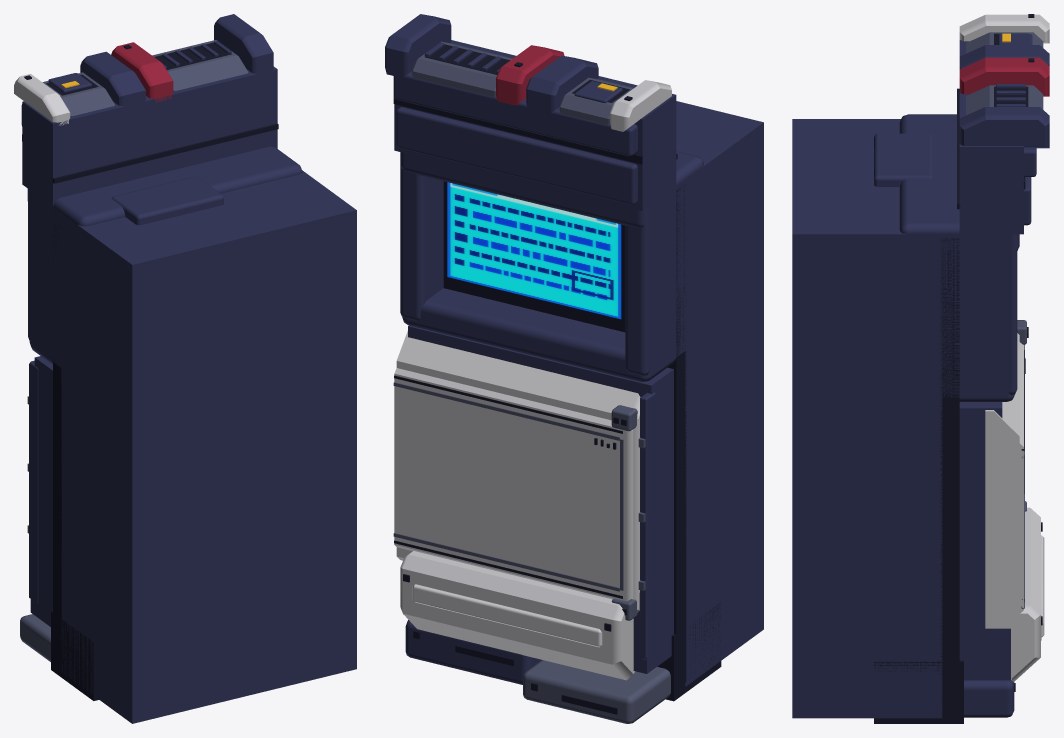
File: hull.bay.plate_large.window.navy.plate.w1.275.s1.k-1.25.t-0.95_0.42_1.3_1.85.glb
3 renders of one model, left to right at view 1: azimuth 30°, elevation 25°; view 2: azimuth 150°, elevation 25°; view 3: azimuth 270°, elevation 25°, orthographic. The views are drawn at different scales.
Parts seen in each view (by area): view 1: hull.bay.plate_large.window.navy.plate.w1.275.s1.k-1.25.t-0.; view 2: hull.bay.plate_large.window.navy.plate.w1.275.s1.k-1.25.t-0.; view 3: hull.bay.plate_large.window.navy.plate.w1.275.s1.k-1.25.t-0..
Part boxes in pixels (x1,y1,x2,y2): hull.bay.plate_large.window.navy.plate.w1.275.s1.k-1.25.t-0.: (14, 14, 356, 723); hull.bay.plate_large.window.navy.plate.w1.275.s1.k-1.25.t-0.: (385, 14, 763, 723); hull.bay.plate_large.window.navy.plate.w1.275.s1.k-1.25.t-0.: (792, 14, 1049, 723).
Size of the model in its own units: 1.27 by 3.12 by 1.2.
Materials: 8 (1 with a texture image).
